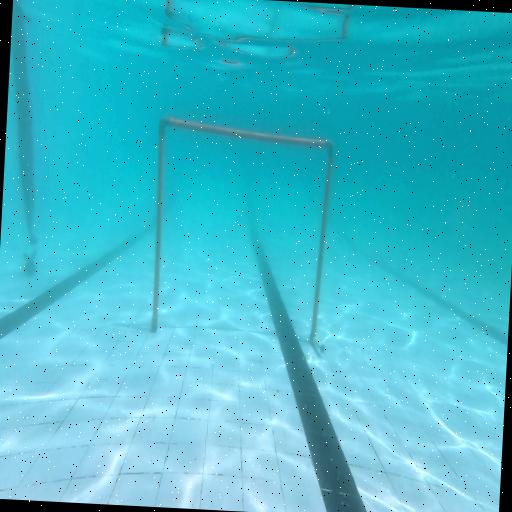gate: (148, 116, 336, 354)
